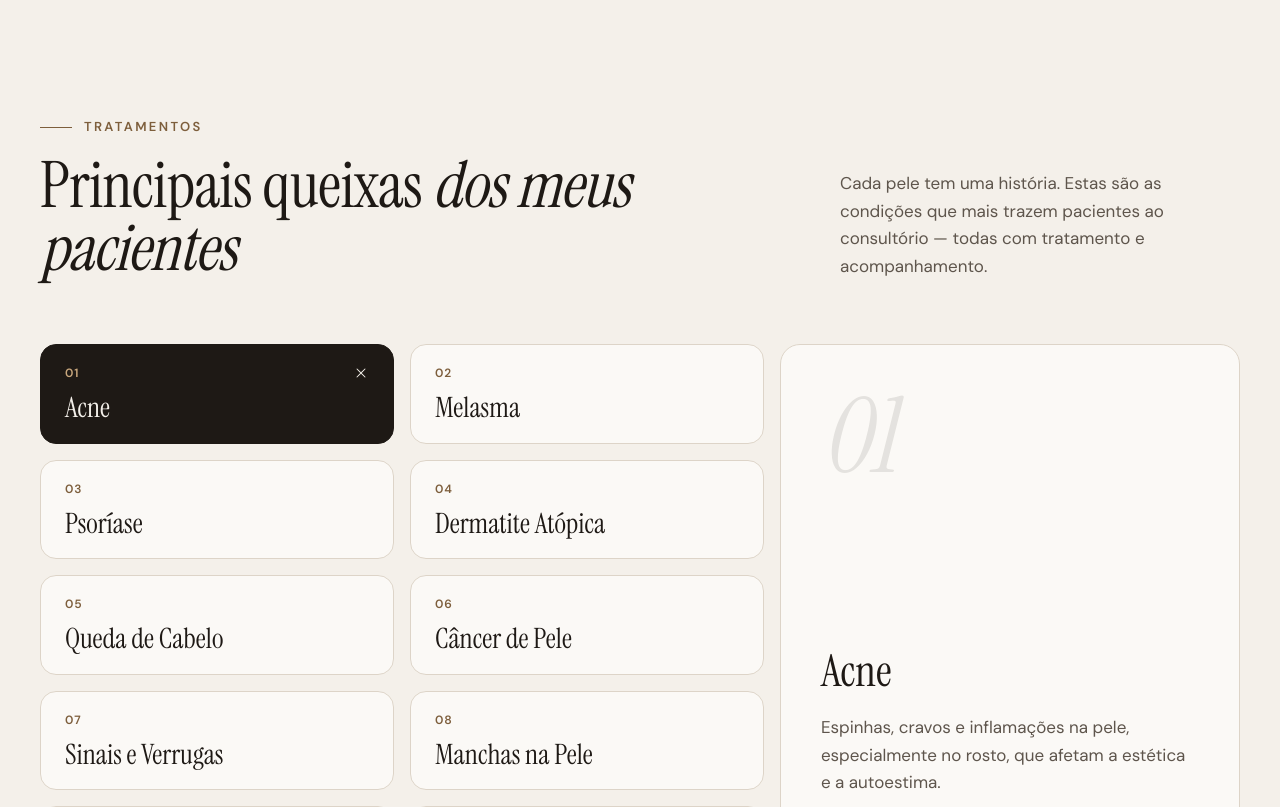
Test: Complains › ao clicar num card, mostra a explicação dele e fecha a anterior
This screenshot has width=1280, height=807.
Click the button "03 Psoríase" at (104, 523), box [40, 460, 394, 559]
(page scrolled)
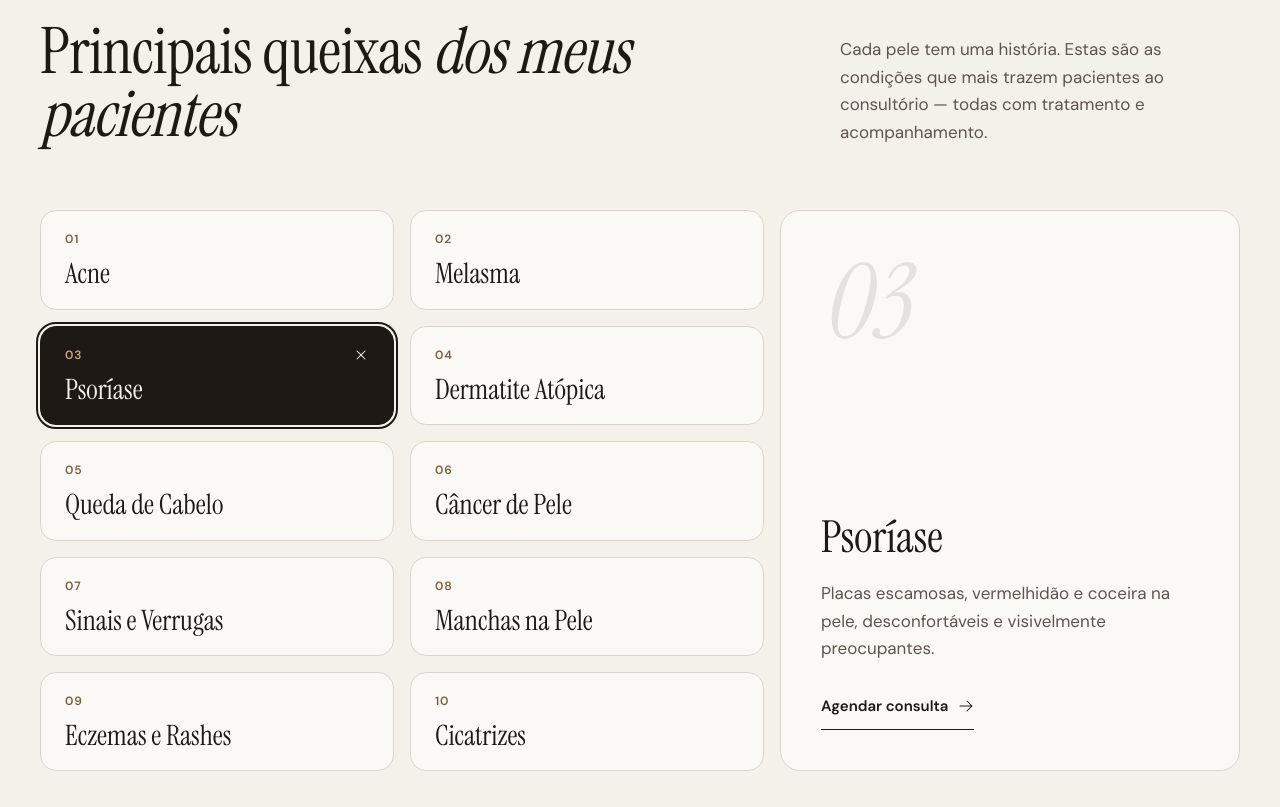
expect the button "03 Psoríase" is expanded: met, box [40, 326, 394, 425]
expect the button "01 Acne" is collapsed: met, box [40, 210, 394, 310]
expect the element that starts with "Psoríase" shows "Placas escamosas, vermelhidão e coceira na pele, desconfortáveis e visivelmente preocupantes.": met, box [821, 582, 1170, 659]
